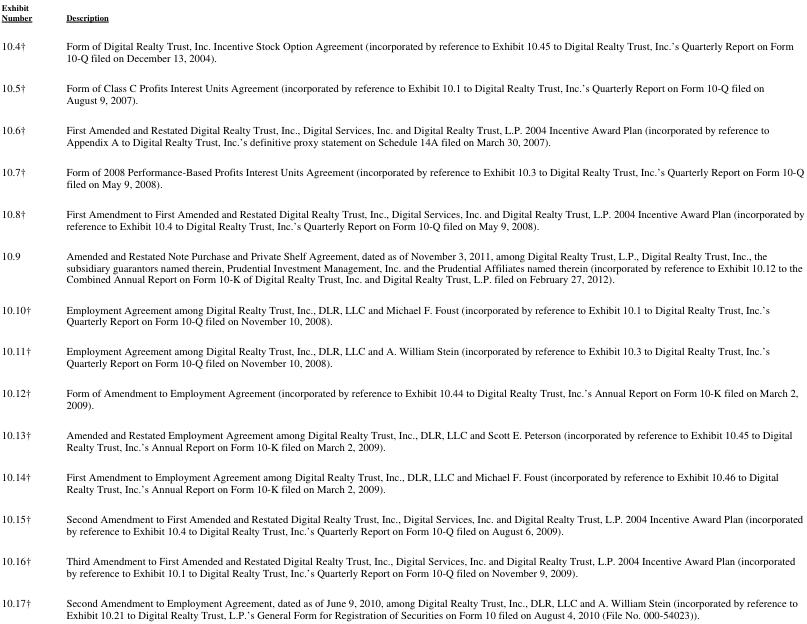table: (0, 1, 803, 620)
table column: (48, 1, 803, 620), (0, 1, 48, 620)
table column header: (0, 1, 803, 30)
table row: (0, 239, 803, 293), (0, 30, 803, 72), (0, 113, 803, 155), (0, 155, 803, 197), (0, 197, 803, 239), (0, 293, 803, 335), (0, 335, 803, 377), (0, 418, 803, 460), (0, 460, 803, 502), (0, 502, 803, 544), (0, 544, 803, 586), (0, 72, 803, 113), (0, 377, 803, 418), (0, 586, 803, 620), (0, 1, 803, 30)
